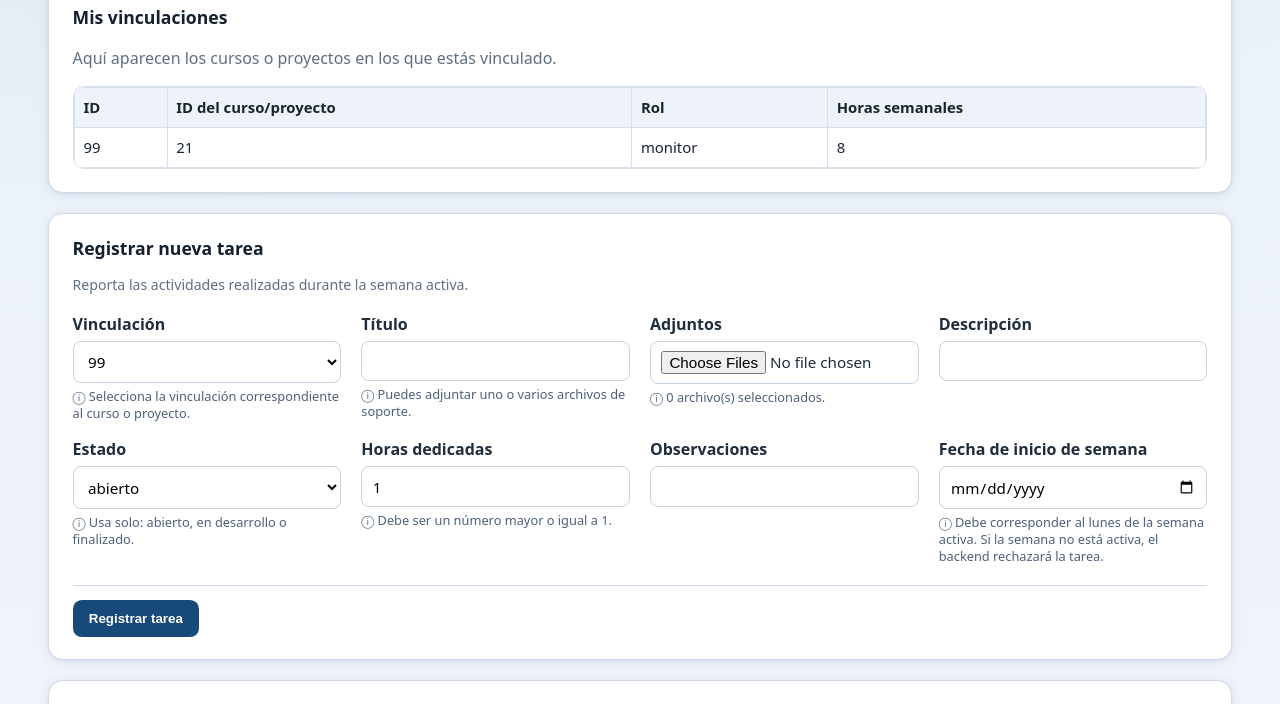
Test: WorkerDashboard › permite diligenciar y enviar el formulario de nueva tarea
The width and height of the screenshot is (1280, 704).
(page scrolled)
Expected: the button "Registrar tarea" is shown, [73,600,199,637]
Type "Revision de quiz" into the field labelled "Título".
click(496, 361); type("Revision de quiz")  # box [361,340,630,381]
Type "Apoyo en calificacion" into the field labelled "Descripción".
click(1073, 361); type("Apoyo en calificacion")  # box [939,340,1207,381]
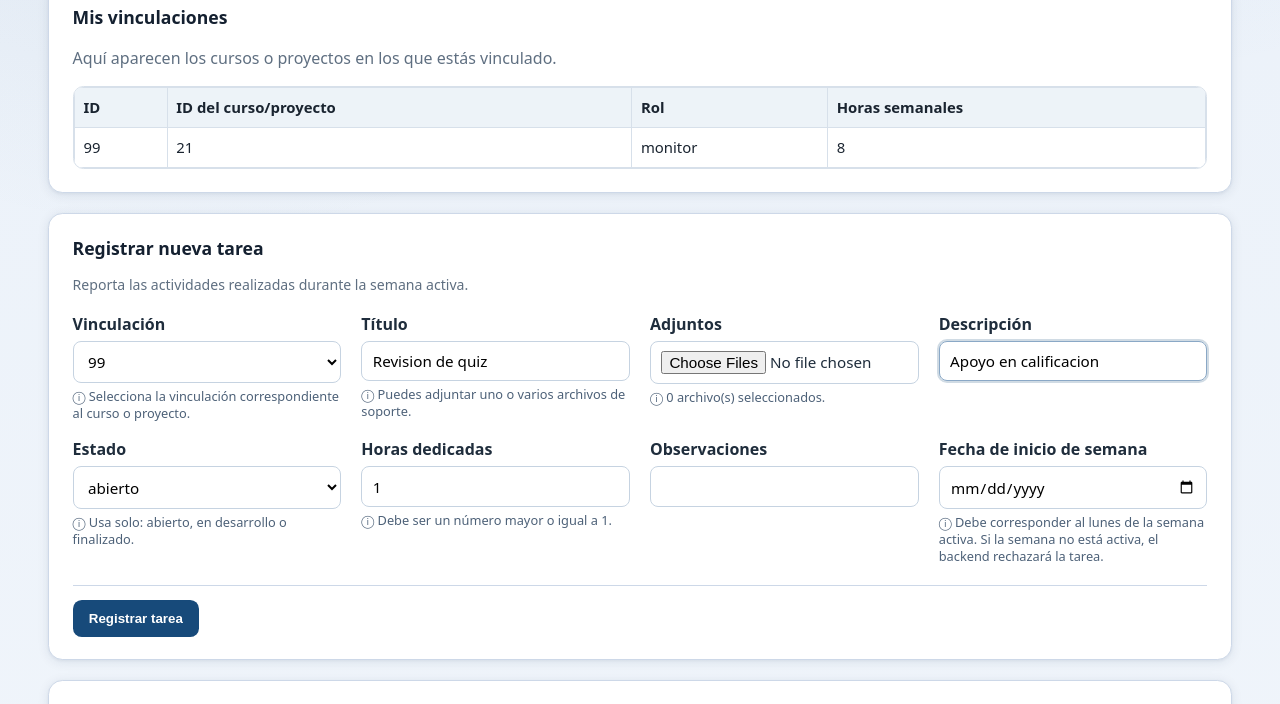
Replace the text in the number field labelled "Horas dedicadas" with "3" at [496, 487], box [361,466,630,507]
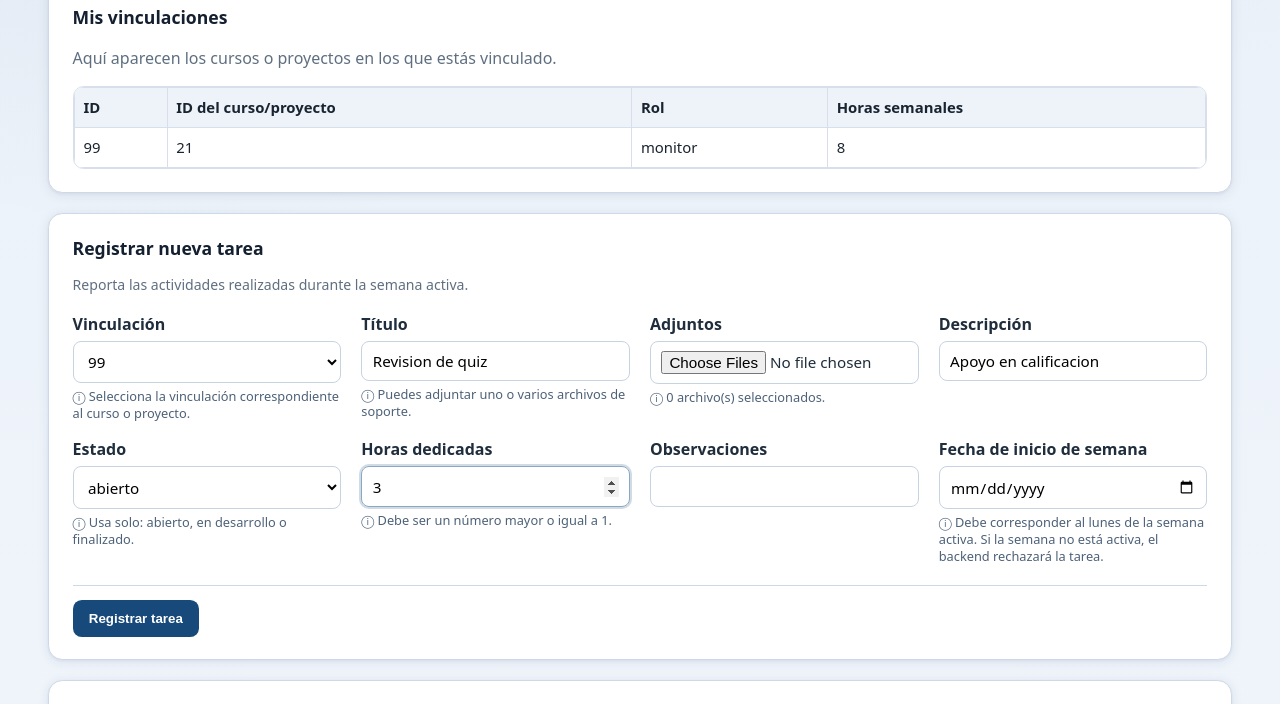
Type "Entrega completa" into the field labelled "Observaciones".
click(784, 487); type("Entrega completa")  # box [650,466,919,507]
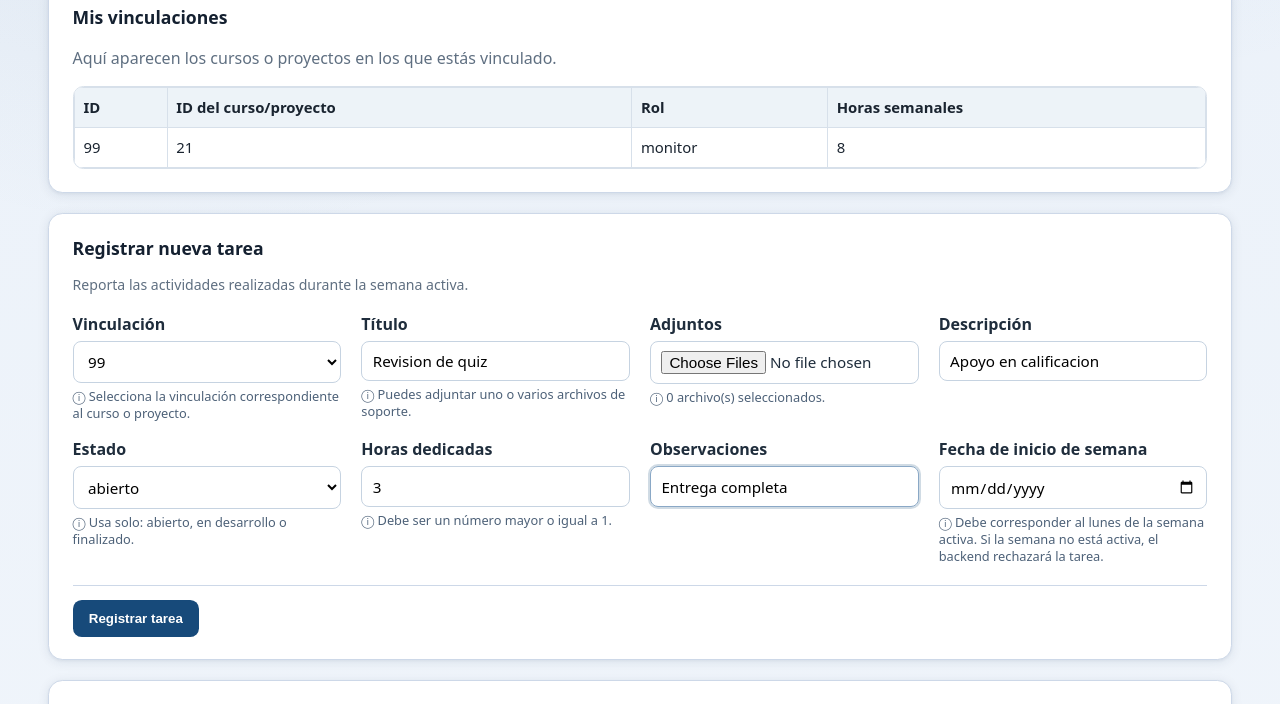
Type "2026-05-18" into the date field labelled "Fecha de inicio de semana".
click(1073, 488); type("2026-05-18")  # box [939,466,1207,509]
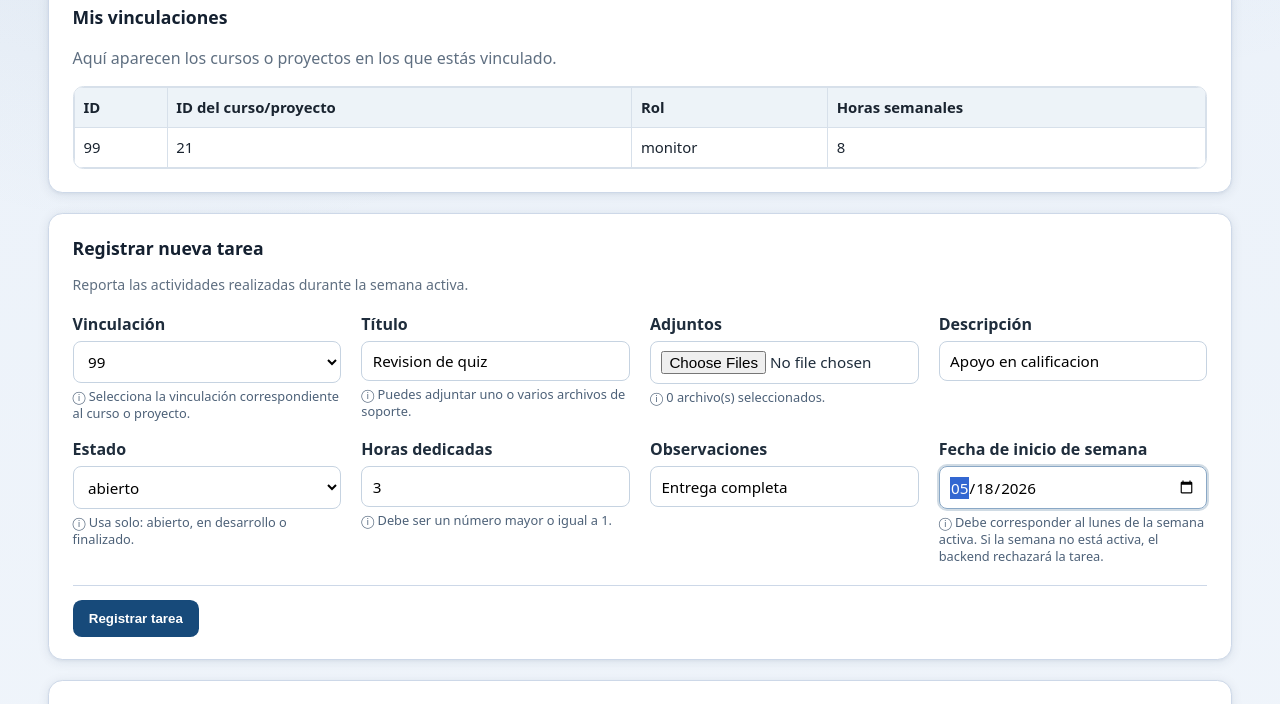
Select "en desarrollo" in the dropdown labelled "Estado" at [207, 488], box [73,466,341,509]
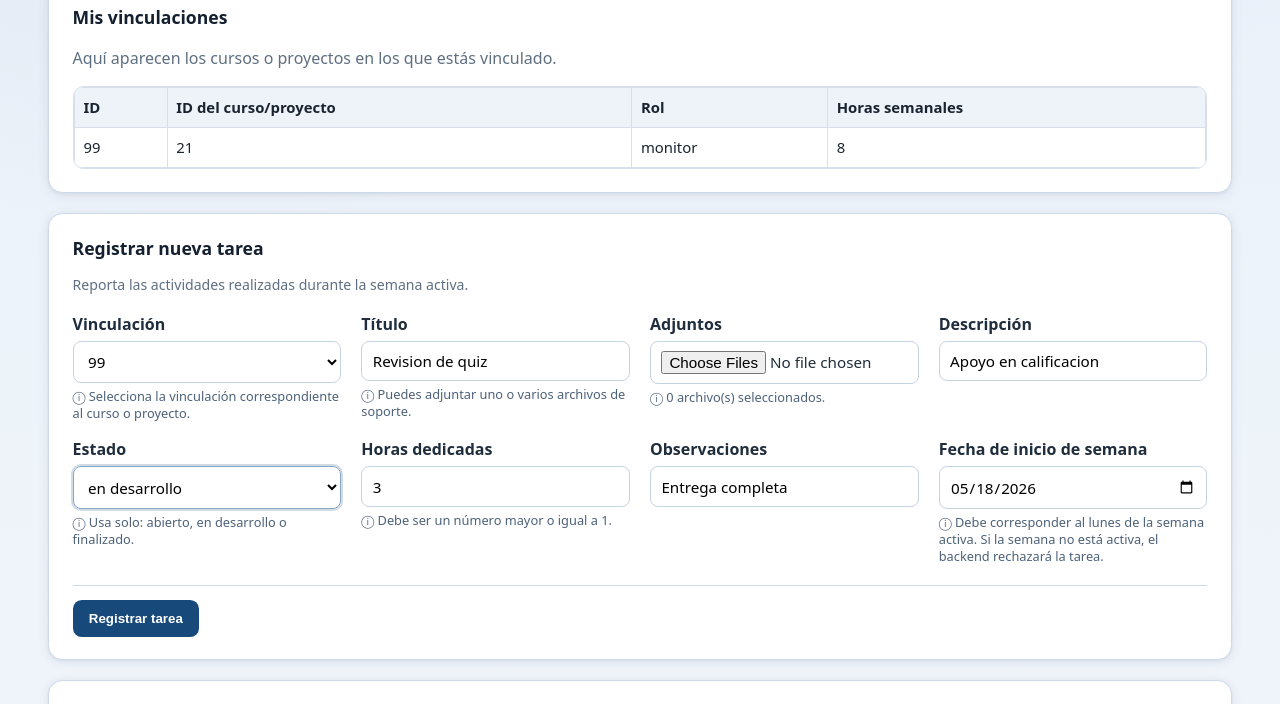
Click the button "Registrar tarea".
click(136, 618)  # box [73,600,199,637]
(page scrolled)
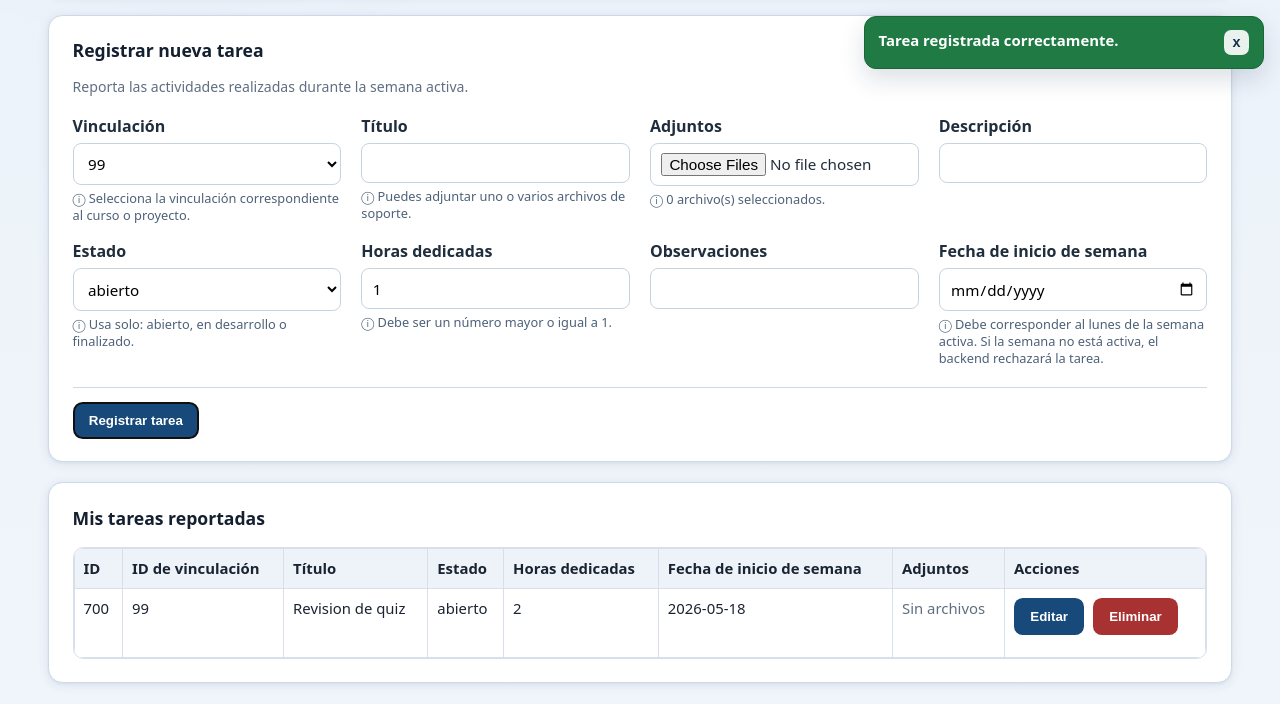
Expected: the text "Tarea registrada correctamente." is shown, [879,30,1118,50]
Expected: the text "Revision de quiz" is shown, [284,589,428,658]
